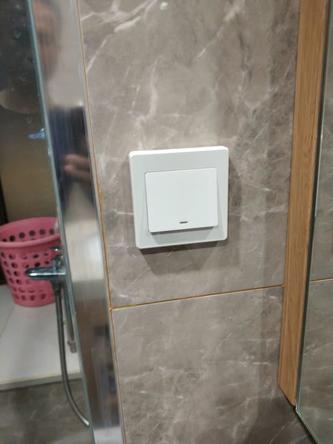switch: (135, 158, 230, 247)
